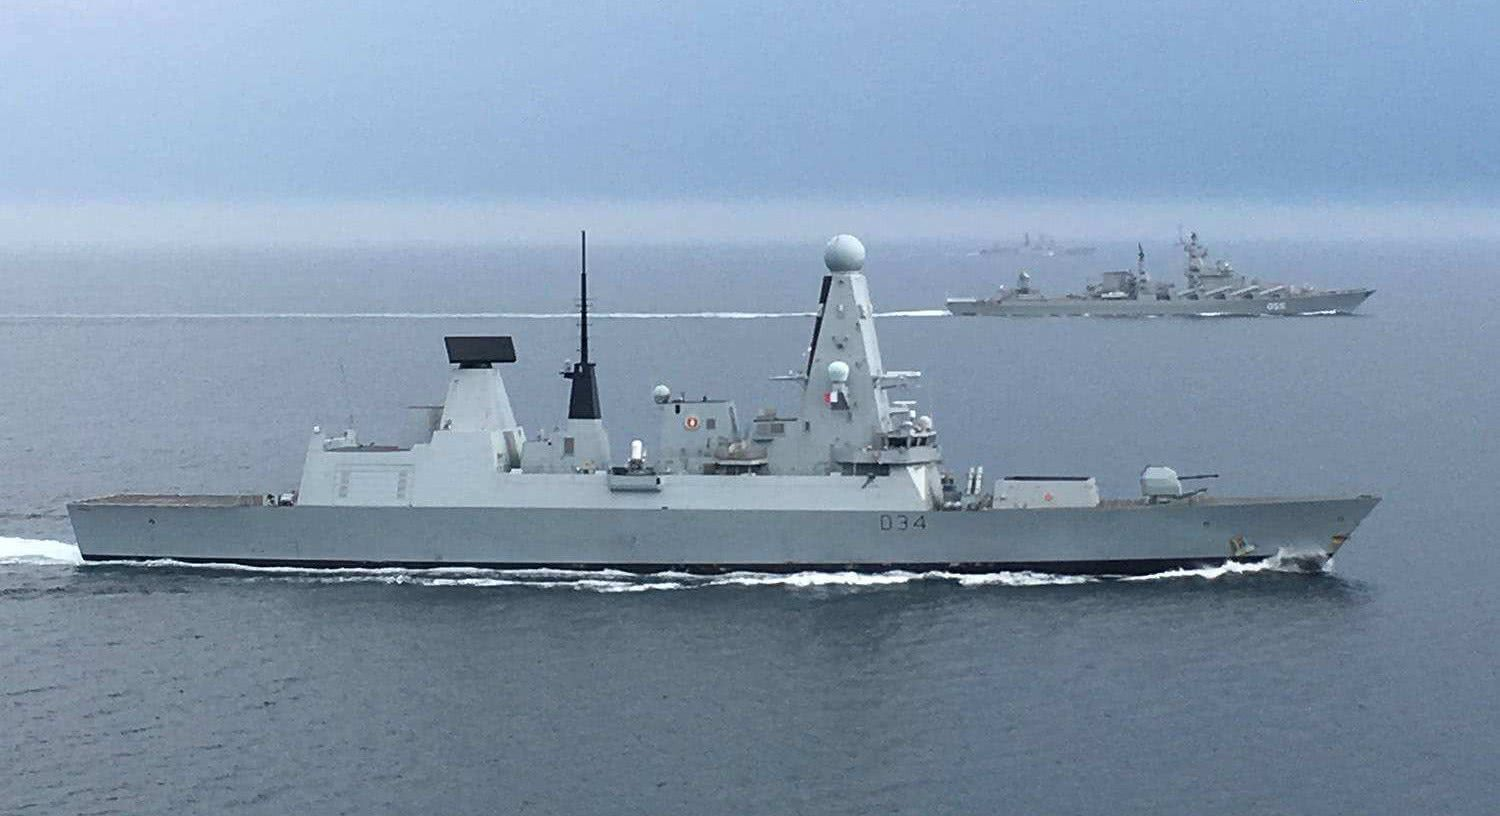warship: (63, 216, 1382, 582), (942, 224, 1375, 319)
